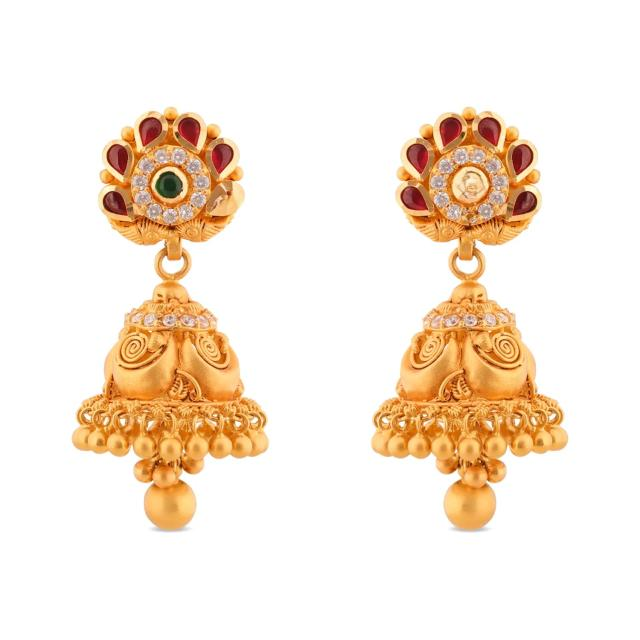missing gem: (209, 188, 239, 211), (459, 173, 483, 199), (464, 208, 477, 221)
